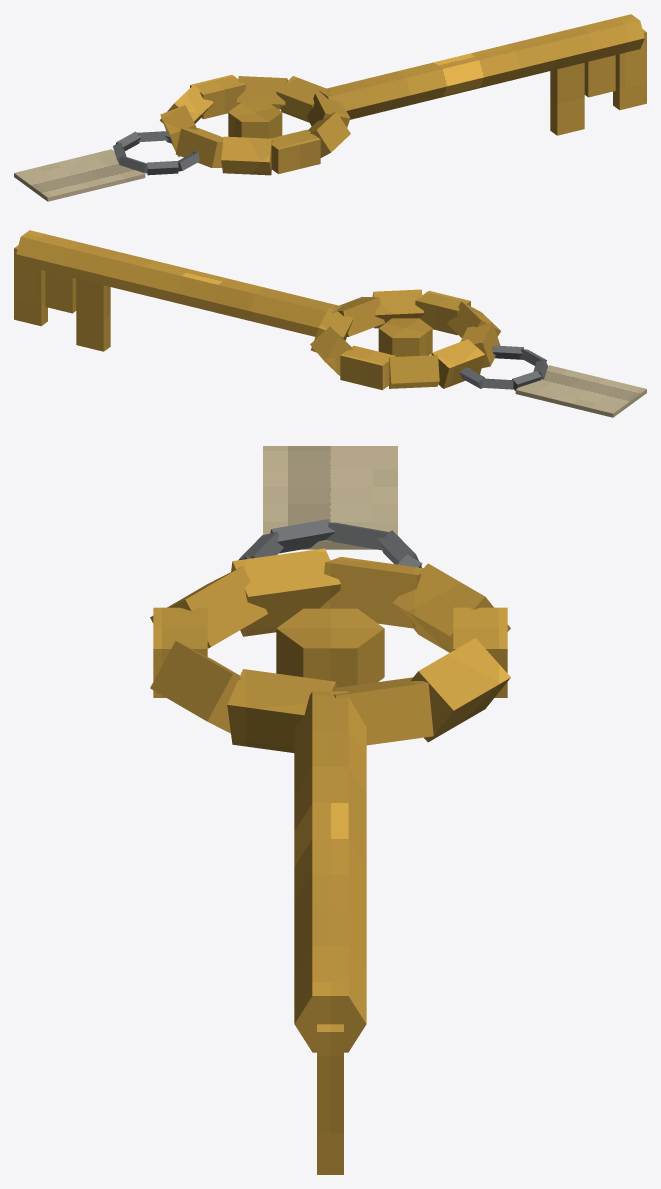
File: golden_key.glb
3 renders of one model, top to bottom at view 1: azimuth 30°, elevation 25°; view 2: azimuth 150°, elevation 25°; view 3: azimuth 270°, elevation 25°, orthographic. The views are drawn at different scales.
Parts seen in each view (by area): view 1: golden_key; view 2: golden_key; view 3: golden_key.
Boxes of the visible parts, x1=… form: golden_key: x1=14, y1=14, x2=646, y2=201; golden_key: x1=14, y1=230, x2=646, y2=417; golden_key: x1=150, y1=446, x2=510, y2=1174.
Bounding box in the file's own units: 0.314 × 0.0484 × 0.0801.
3 materials, 3 textured.
